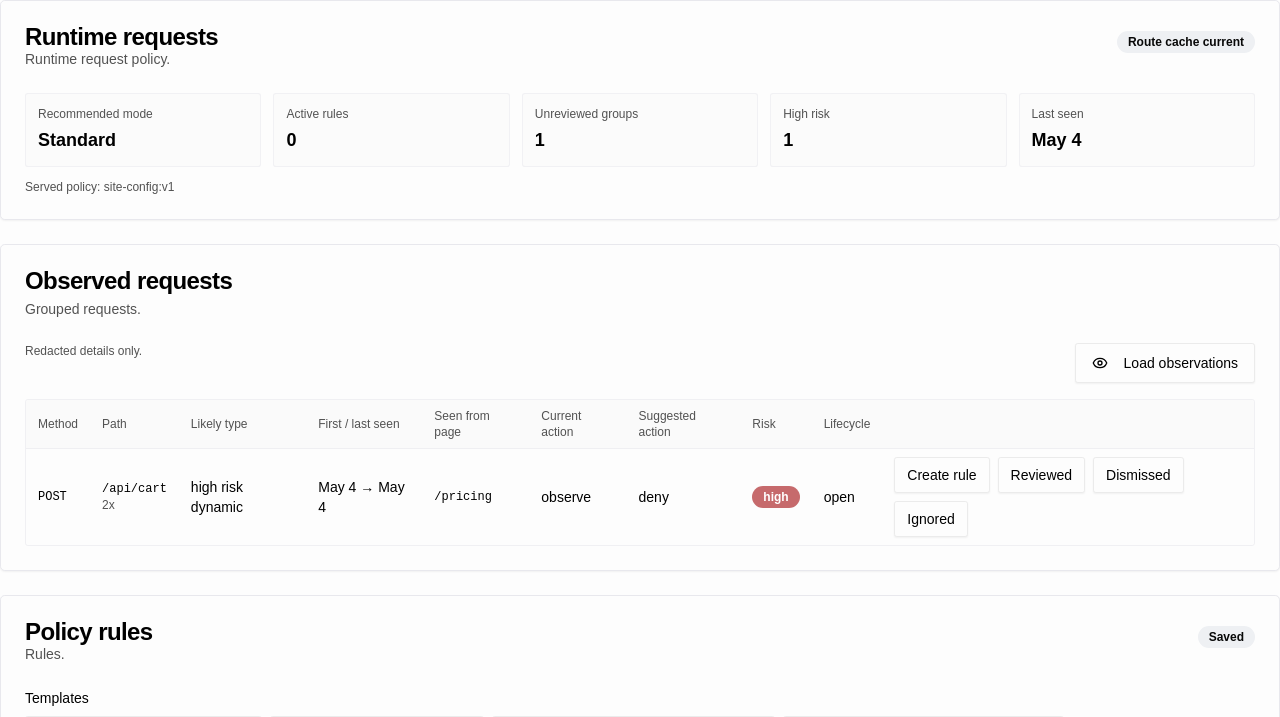
Test: RuntimeRequestsManager › shows a friendly lifecycle failure when the action rejects
This screenshot has width=1280, height=717.
Click the button "Dismissed": [1138, 475] box [1093,457,1184,493]
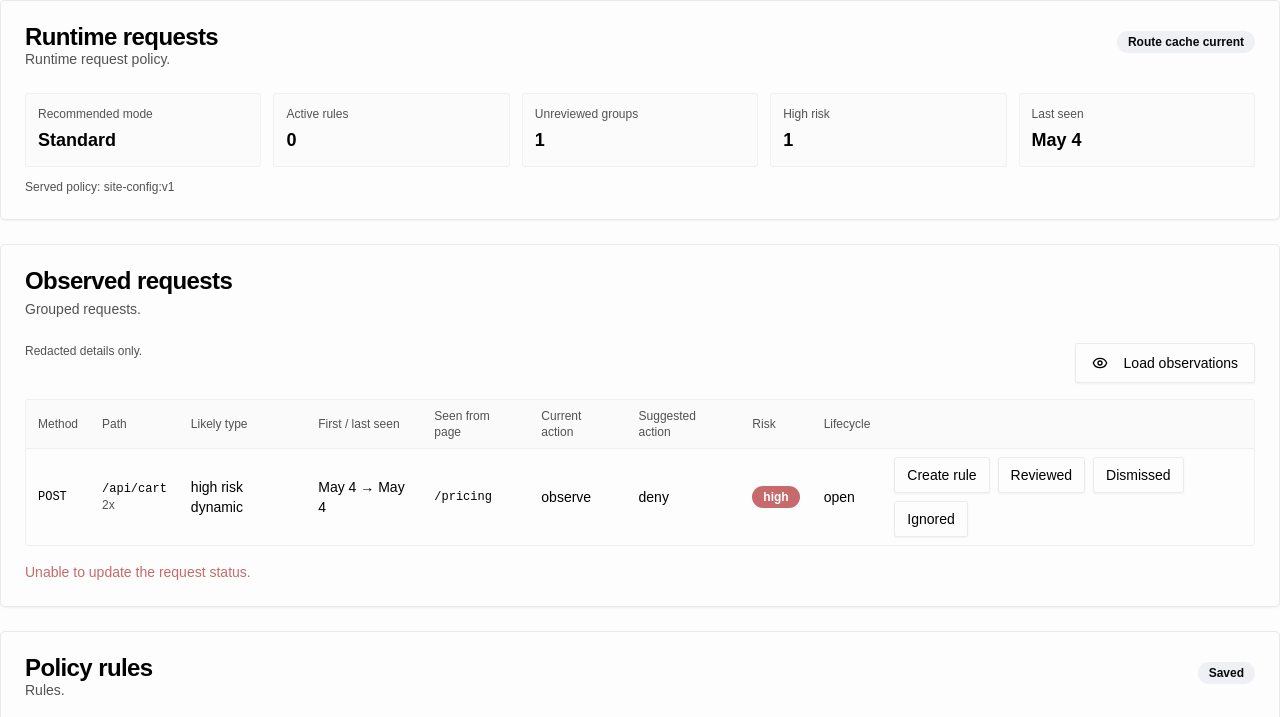
expect the text "Unable to update the request status." is shown: met, box [25,564,251,580]
